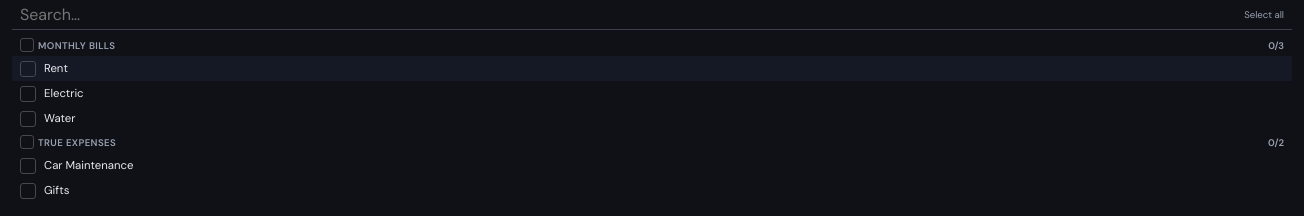
Test: GroupedMultiSelect › search filters the list and empties groups that no longer match
Step 1. Type "wat" into the field with placeholder "Search…" → coordinates (628, 14), box [20, 4, 1236, 25]
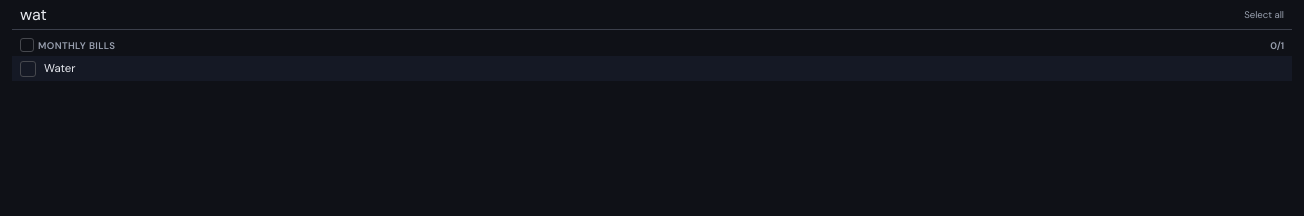
Expected: the number of options with class "gms__option" is 1, [12, 56, 1292, 81]
Expected: the button "True Expenses" is gone
